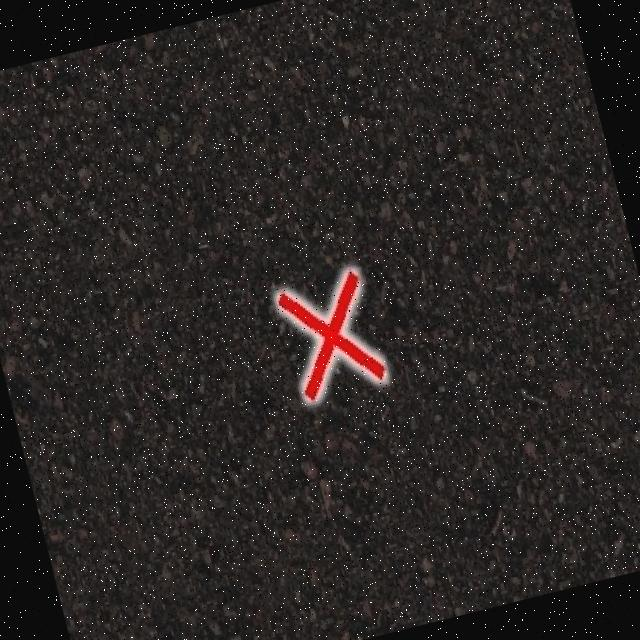x_marker: (274, 268, 385, 400)
